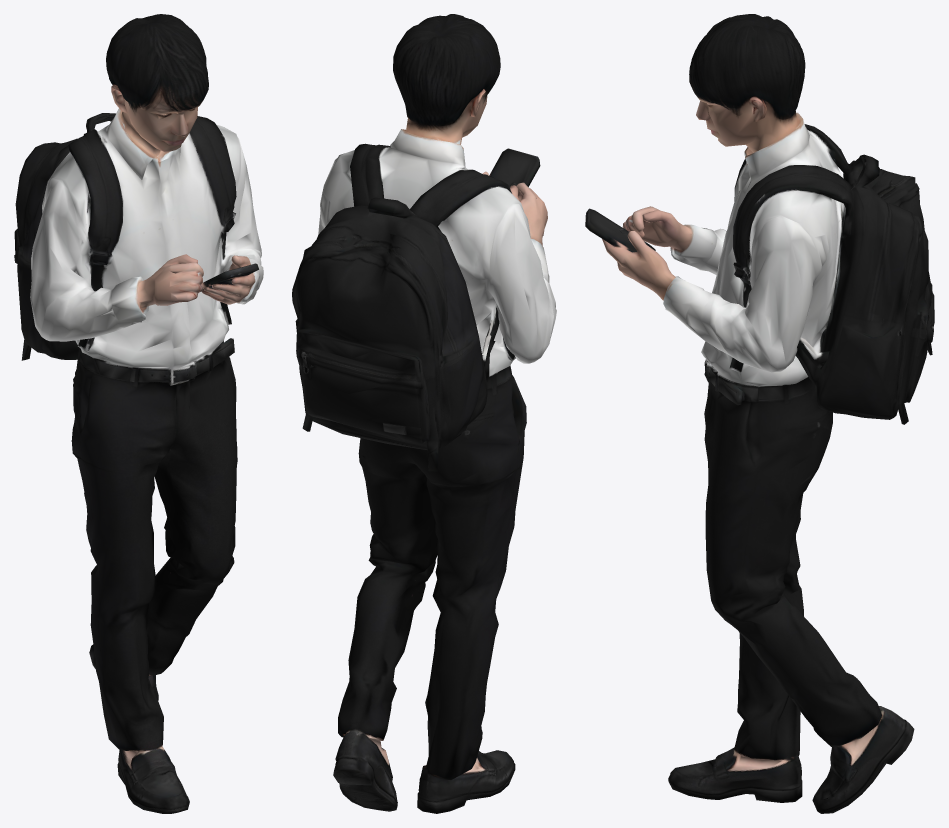
Rendered from JPGV01_M05_L10k.glb.
3 renders of one model, left to right at view 1: azimuth 30°, elevation 25°; view 2: azimuth 150°, elevation 25°; view 3: azimuth 270°, elevation 25°, orthographic. The views are drawn at different scales.
Visible parts, largest first — view 1: JPGV01_M05_L10k; view 2: JPGV01_M05_L10k; view 3: JPGV01_M05_L10k.
Part boxes in pixels (box(x1,y1,x2,y2)): JPGV01_M05_L10k: box(14, 14, 263, 813); JPGV01_M05_L10k: box(292, 14, 556, 813); JPGV01_M05_L10k: box(585, 14, 934, 813).
Size of the model in its own units: 0.5442 by 1.83 by 0.7425.
1 material, 1 textured.
